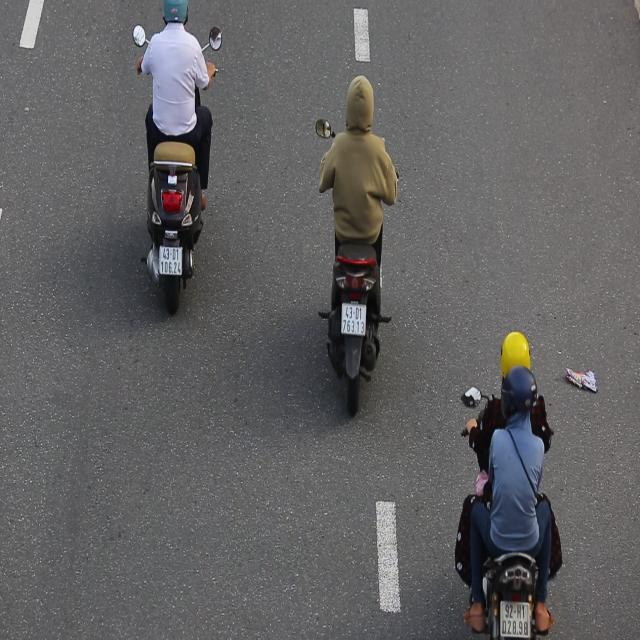motorbike: (450, 335, 567, 638), (312, 69, 402, 417)
